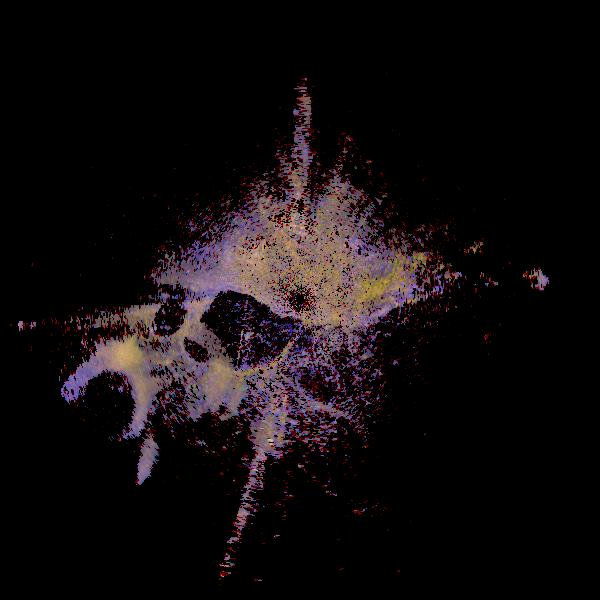roost: (124, 309, 241, 426), (57, 340, 165, 448), (61, 399, 169, 507)
